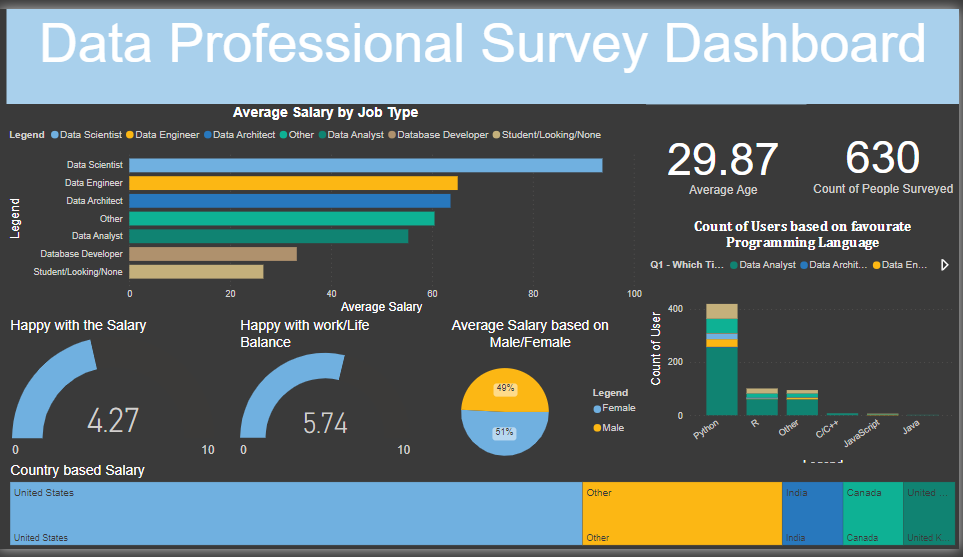

The page's visual inventory and layout, read from the dashboard file:
{"tool":"powerbi","page":{"name":"Page 2","canvas":[1280,720],"ordinal":0},"visuals":[{"type":"textbox","box":[9.2,0,1271.5,127.3],"z":0},{"type":"card","fields":{"Values":["Count(Data Professional Survey.Unique ID)"]},"box":[1075.9,127.3,204.8,151.3],"z":1000},{"type":"card","fields":{"Values":["Avg(Data Professional Survey.Q10 - Current Age)"]},"box":[863.3,130,205,148.3],"z":2000},{"type":"barChart","title":"Average Salary by Job Type","fields":{"Category":["Data Professional Survey.Q1 - Which Title Best Fits your Current Role?.1"],"Y":["Avg(Data Professional Survey.Average Salary)"],"Series":["Data Professional Survey.Q1 - Which Title Best Fits your Current Role?.1"]},"box":[8.6,127.1,854.3,284.3],"z":3000},{"type":"columnChart","title":"Count of Users based on favourate Programming Language","fields":{"Category":["Data Professional Survey.Q5 - Favorite Programming Language.1"],"Y":["CountNonNull(Data Professional Survey.Unique ID)"],"Series":["Data Professional Survey.Q1 - Which Title Best Fits your Current Role?.1"]},"box":[862.9,278.6,417.1,342.9],"z":4000},{"type":"treemap","title":"Country based Salary","fields":{"Values":["Sum(Data Professional Survey.Average Salary)"],"Group":["Data Professional Survey.Q11 - Which Country do you live in?.1"],"Details":["Data Professional Survey.Q11 - Which Country do you live in?.1"]},"box":[10,605,1270,115],"z":4001},{"type":"gauge","title":"Happy with work/Life Balance","fields":{"Y":["Avg(Data Professional Survey.Q6 - How Happy are you in your Current Position with the following? (Work/Life Balance))"],"MinValue":["Min(Data Professional Survey.Q6 - How Happy are you in your Current Position with the following? (Work/Life Balance))"],"MaxValue":["Max(Data Professional Survey.Q6 - How Happy are you in your Current Position with the following? (Work/Life Balance))"]},"box":[316.7,411.7,236.7,193.3],"z":4002},{"type":"gauge","title":"Happy with the Salary","fields":{"Y":["Avg(Data Professional Survey.Q6 - How Happy are you in your Current Position with the following? (Salary))"],"MinValue":["Min(Data Professional Survey.Q6 - How Happy are you in your Current Position with the following? (Salary))"],"MaxValue":["Max(Data Professional Survey.Q6 - How Happy are you in your Current Position with the following? (Salary))1"]},"box":[10,411.7,285,193.3],"z":4003},{"type":"pieChart","title":"Average Salary based on Male/Female","fields":{"Category":["Data Professional Survey.Q9 - Male/Female?"],"Y":["Avg(Data Professional Survey.Average Salary)"]},"box":[553.3,411.7,310,210],"z":4004}]}

Visuals, with their boxes in screenshot pixels (x1, y1, x2, y2), scaled from the page's 1280x720 canvas onto the 963x557 screenshot:
textbox: (x1=7, y1=0, x2=962, y2=98)
card - Count(Data Professional Survey.Unique ID): (x1=809, y1=98, x2=962, y2=216)
card - Avg(Data Professional Survey.Q10 - Current Age): (x1=649, y1=101, x2=804, y2=215)
"Average Salary by Job Type" barChart: (x1=6, y1=98, x2=649, y2=318)
"Count of Users based on favourate Programming Language" columnChart: (x1=649, y1=216, x2=962, y2=481)
"Country based Salary" treemap: (x1=8, y1=468, x2=962, y2=556)
"Happy with work/Life Balance" gauge: (x1=238, y1=318, x2=416, y2=468)
"Happy with the Salary" gauge: (x1=8, y1=318, x2=222, y2=468)
"Average Salary based on Male/Female" pieChart: (x1=416, y1=318, x2=649, y2=481)
